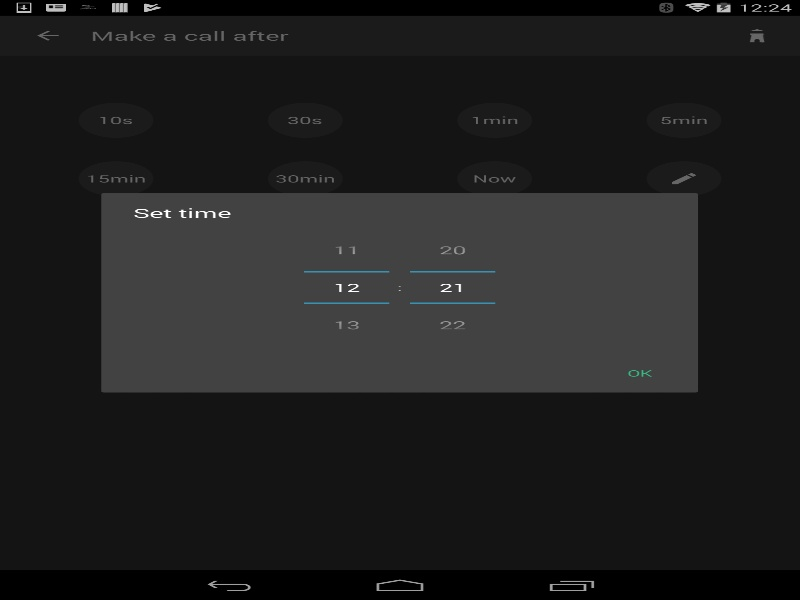Button: (409, 231, 495, 272), (409, 302, 495, 343), (304, 231, 389, 272), (304, 302, 389, 343), (596, 356, 682, 390)
Input: (409, 272, 495, 302), (304, 272, 389, 302)
